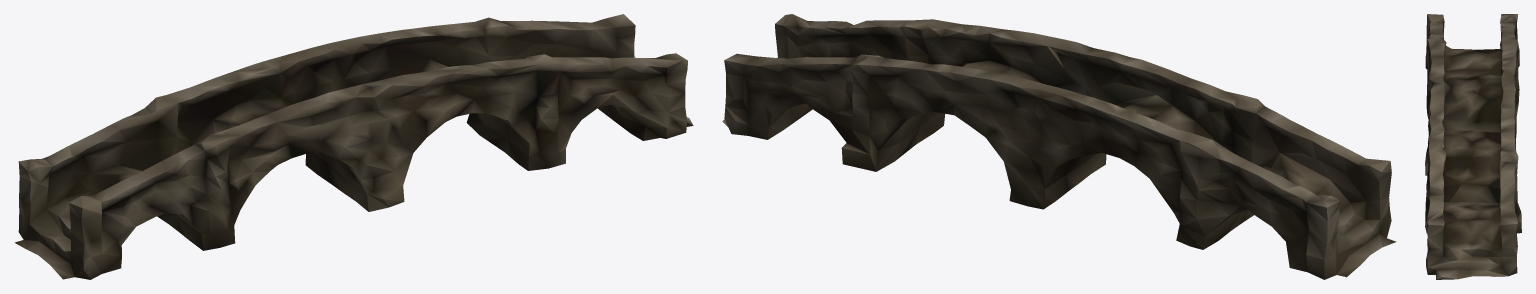
The model's file is lib_stone_bridge.vc2.glb.
3 views of the same model, side by side, from view 1: azimuth 30°, elevation 25°; view 2: azimuth 150°, elevation 25°; view 3: azimuth 270°, elevation 25° (orthographic). The views are drawn at different scales.
Parts seen in each view (by area): view 1: lib_stone_bridge; view 2: lib_stone_bridge; view 3: lib_stone_bridge.
Boxes of the visible parts, <box> form: lib_stone_bridge: <box>15,14,693,279</box>; lib_stone_bridge: <box>722,14,1396,279</box>; lib_stone_bridge: <box>1425,14,1521,279</box>.
Size of the model in its own units: 1.89 by 0.3411 by 0.3543.
